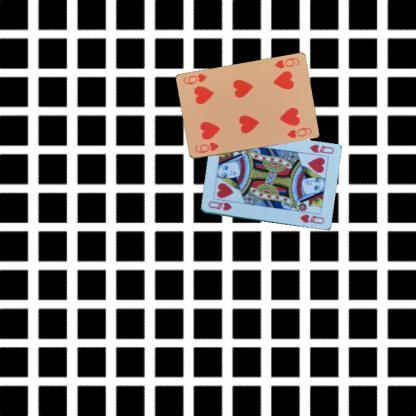6h: (272, 55, 301, 70), (192, 140, 220, 154)
Qh: (307, 142, 334, 156), (206, 199, 233, 212)
